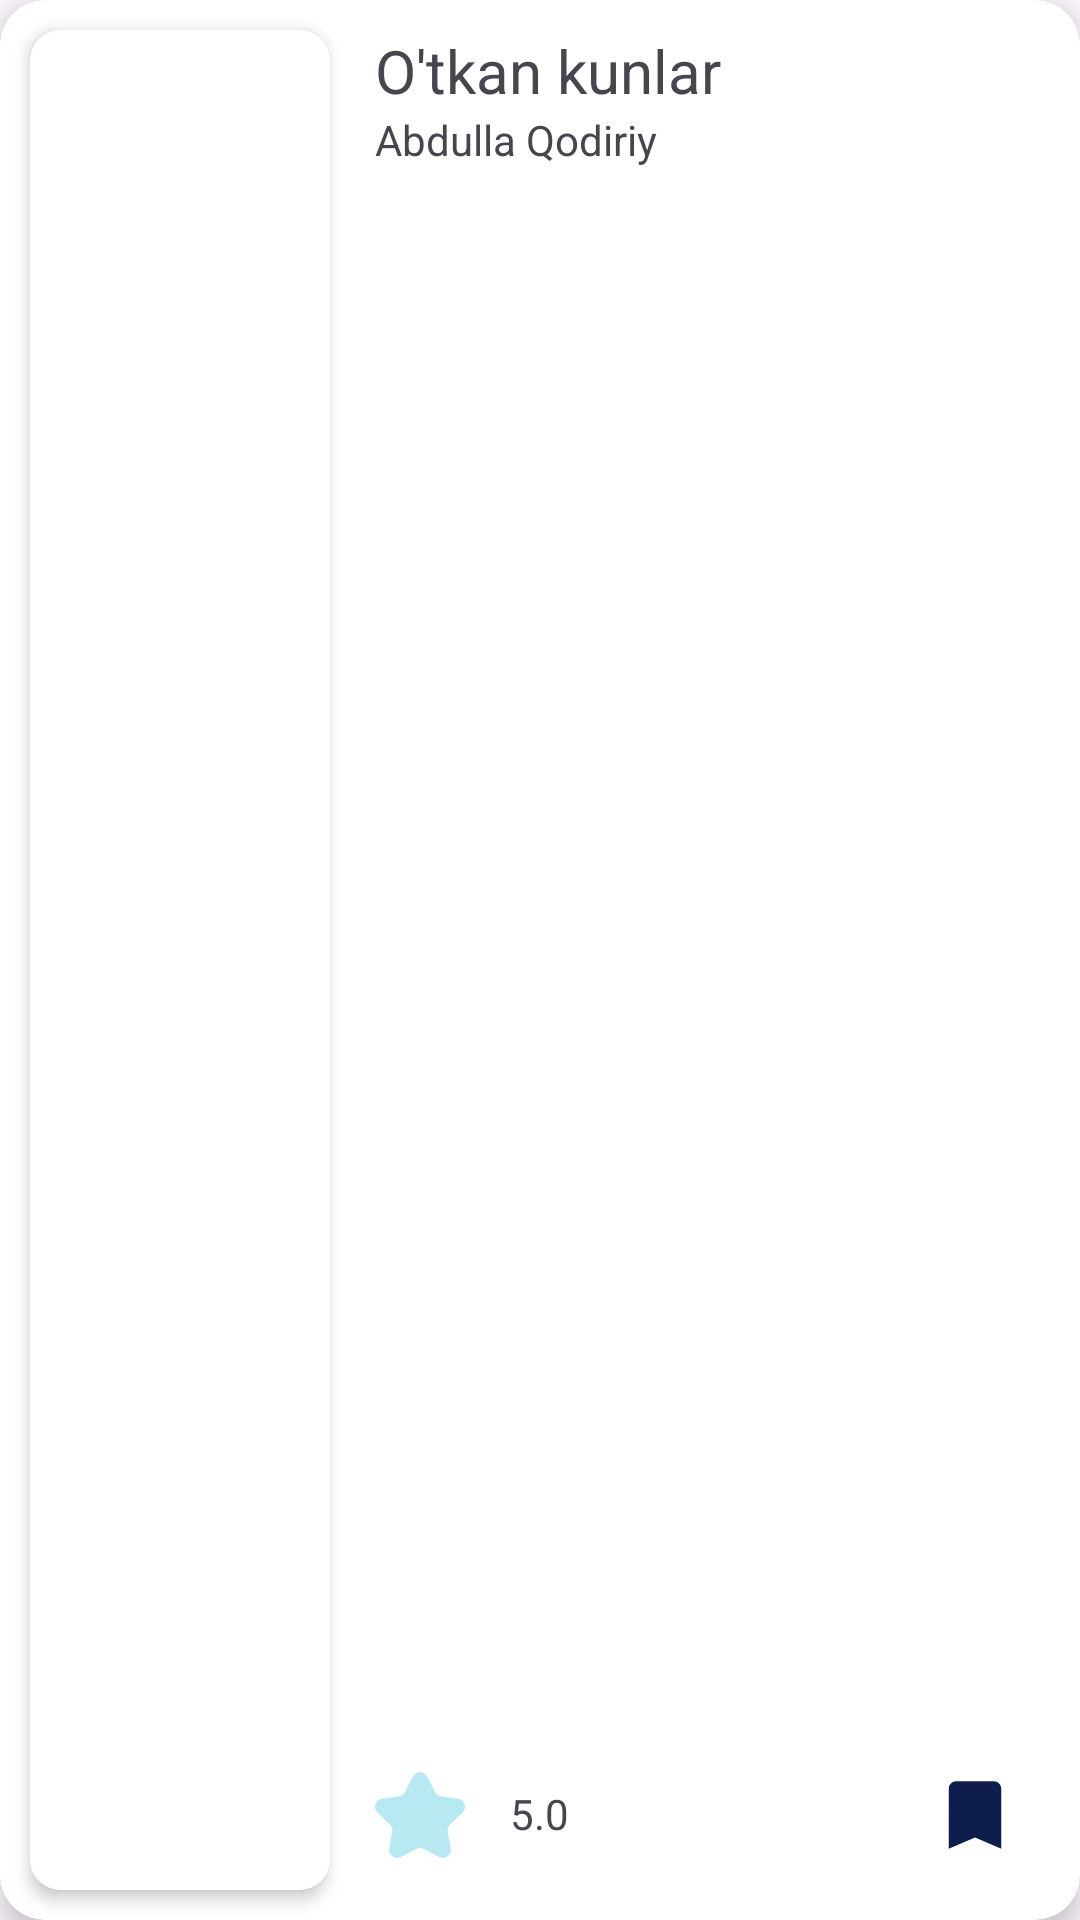

Icon click points for this 1080×1920 phone screenshot, format [x,y]:
book marked true: [975,1815]
star: [420,1815]
